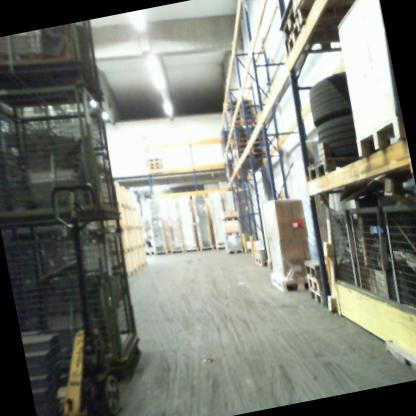pallet: (279, 2, 377, 66), (348, 117, 408, 159), (305, 149, 363, 189), (268, 265, 318, 296), (269, 0, 303, 42), (300, 271, 327, 298), (300, 252, 322, 281), (232, 153, 267, 171), (251, 251, 277, 272), (231, 127, 268, 141), (225, 118, 259, 131), (307, 287, 327, 309), (222, 102, 255, 115), (220, 96, 254, 108), (228, 106, 257, 119), (233, 135, 264, 146), (234, 140, 264, 151), (234, 148, 261, 160), (234, 146, 263, 157), (225, 112, 252, 123), (143, 246, 155, 260), (150, 164, 161, 171), (150, 161, 161, 168), (148, 157, 161, 162)
pallet_truck: (7, 166, 146, 416)
stillage: (4, 211, 152, 383), (0, 68, 123, 249), (344, 200, 398, 301), (378, 189, 416, 318), (318, 204, 361, 294)
